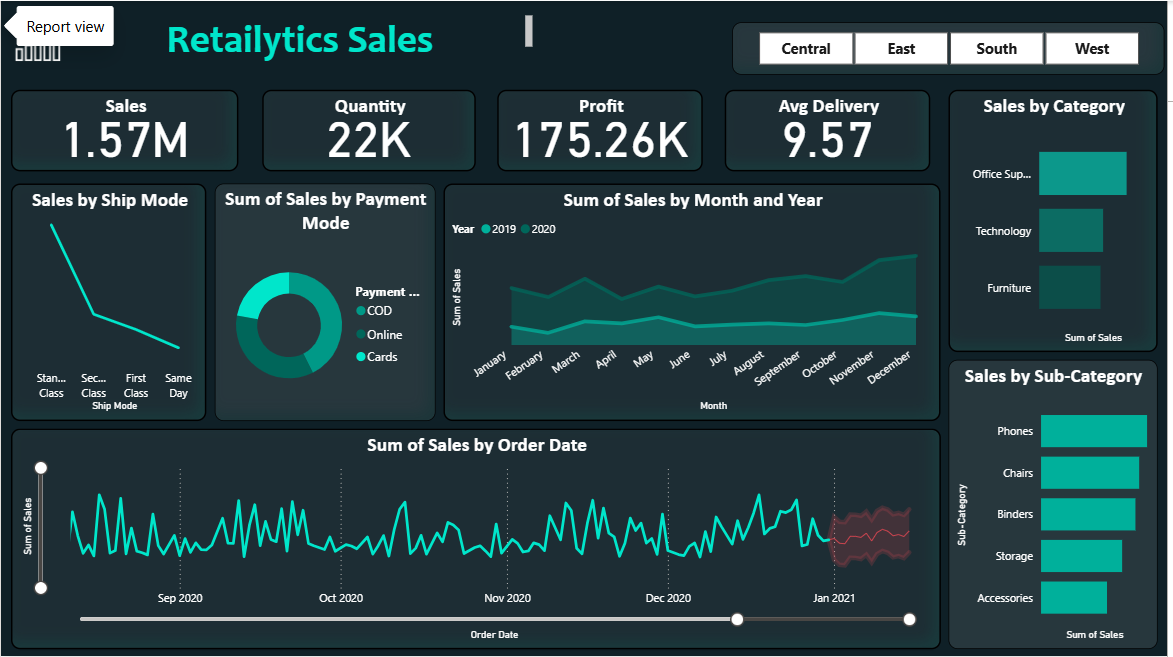

What the dashboard file says about the page in this screenshot:
{"tool":"powerbi","page":{"name":"Page 1","canvas":[1280,720],"ordinal":0},"visuals":[{"type":"clusteredBarChart","title":"Sales by Category","fields":{"Category":["SuperStore_Sales_Dataset.Category"],"Y":["Sum(SuperStore_Sales_Dataset.Sales)"]},"box":[1040,97.7,229.2,288.3],"z":0},{"type":"clusteredBarChart","title":"Sales by Sub-Category","fields":{"Category":["SuperStore_Sales_Dataset.Sub-Category"],"Y":["Sum(SuperStore_Sales_Dataset.Sales)"]},"box":[1040,394.5,229.2,317.3],"z":1000},{"type":"areaChart","title":"Sales by Ship Mode","fields":{"Category":["SuperStore_Sales_Dataset.Ship Mode"],"Y":["Sum(SuperStore_Sales_Dataset.Sales)"]},"box":[10.9,200.3,214.7,260.6],"z":2000},{"type":"stackedAreaChart","fields":{"Category":["SuperStore_Sales_Dataset.Order Date.Variation.Date Hierarchy.Month"],"Y":["Sum(SuperStore_Sales_Dataset.Sales)"],"Series":["SuperStore_Sales_Dataset.Order Date.Variation.Date Hierarchy.Year"]},"box":[486.2,200.3,545.3,260.6],"z":3000},{"type":"donutChart","fields":{"Y":["Sum(SuperStore_Sales_Dataset.Sales)"],"Category":["SuperStore_Sales_Dataset.Payment Mode"]},"box":[234,200.3,242.5,260.6],"z":4000},{"type":"slicer","fields":{"Values":["SuperStore_Sales_Dataset.Region"]},"box":[802.3,22.9,474.1,57.9],"z":5000},{"type":"textbox","box":[75.5,11,513.2,70],"z":6000},{"type":"card","title":"Sales","fields":{"Values":["Sum(SuperStore_Sales_Dataset.Sales)"]},"box":[10.9,97.7,249.7,89.3],"z":7000},{"type":"card","title":"Quantity","fields":{"Values":["Sum(SuperStore_Sales_Dataset.Quantity)"]},"box":[287.1,97.7,234,89.3],"z":8000},{"type":"card","title":"Profit","fields":{"Values":["Sum(SuperStore_Sales_Dataset.Profit)"]},"box":[544.1,97.7,225.6,89.3],"z":9000},{"type":"card","title":"Avg Delivery","fields":{"Values":["Avg(SuperStore_Sales_Dataset.AvgDelivery)"]},"box":[795,97.7,225.6,89.3],"z":10000},{"type":"lineChart","fields":{"Y":["Sum(SuperStore_Sales_Dataset.Sales)"],"Category":["SuperStore_Sales_Dataset.Order Date"]},"box":[10.9,469.3,1020.6,242.5],"z":11000},{"type":"actionButton","box":[10.9,10.9,63.9,59.1],"z":12000}]}

Visuals, with their boxes on the page's 1280x720 design canvas (x1, y1, x2, y2). These are canvas units, not pixel positions in the 1173x657 screenshot, which may show the page scaled, cropped or inside an application window:
"Sales by Category" clusteredBarChart: detection(1040, 98, 1269, 386)
"Sales by Sub-Category" clusteredBarChart: detection(1040, 394, 1269, 712)
"Sales by Ship Mode" areaChart: detection(11, 200, 226, 461)
stackedAreaChart - SuperStore_Sales_Dataset.Order Date.Variation.Date Hierarchy.Month x Sum(SuperStore_Sales_Dataset.Sales): detection(486, 200, 1032, 461)
donutChart - Sum(SuperStore_Sales_Dataset.Sales) x SuperStore_Sales_Dataset.Payment Mode: detection(234, 200, 476, 461)
slicer - SuperStore_Sales_Dataset.Region: detection(802, 23, 1276, 81)
textbox: detection(76, 11, 589, 81)
"Sales" card: detection(11, 98, 261, 187)
"Quantity" card: detection(287, 98, 521, 187)
"Profit" card: detection(544, 98, 770, 187)
"Avg Delivery" card: detection(795, 98, 1021, 187)
lineChart - Sum(SuperStore_Sales_Dataset.Sales) x SuperStore_Sales_Dataset.Order Date: detection(11, 469, 1032, 712)
actionButton: detection(11, 11, 75, 70)
